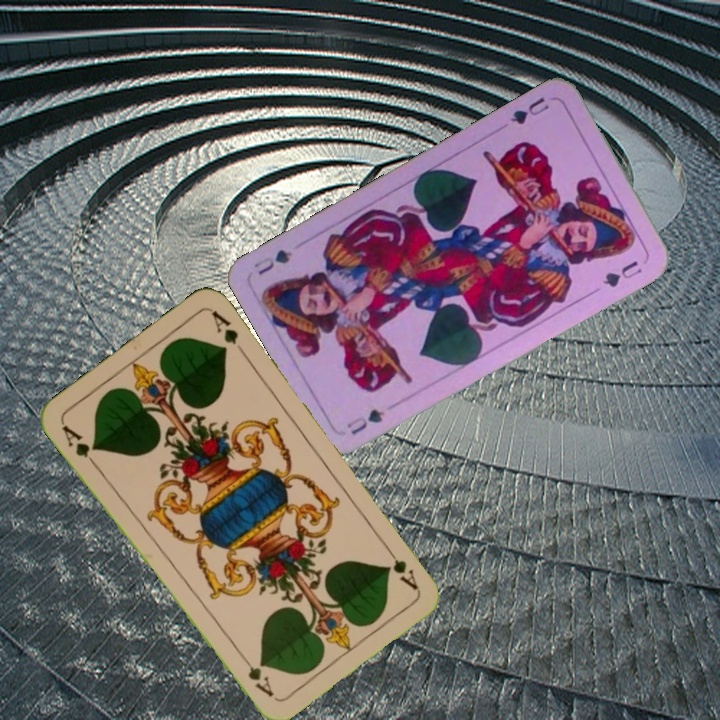GA: (57, 420, 101, 470), (381, 541, 422, 593)
GU: (506, 93, 552, 128), (342, 404, 387, 438)
